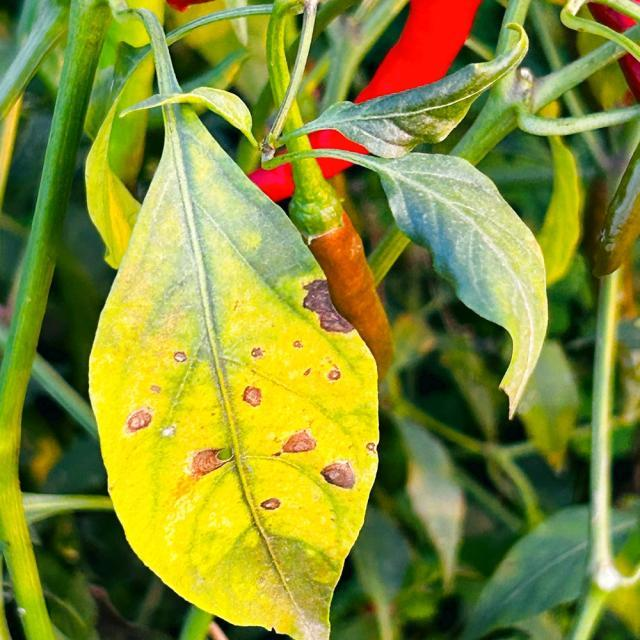Bercak Daun Serkospora: (85, 7, 381, 638)
Virus Kuning: (374, 144, 551, 430)
